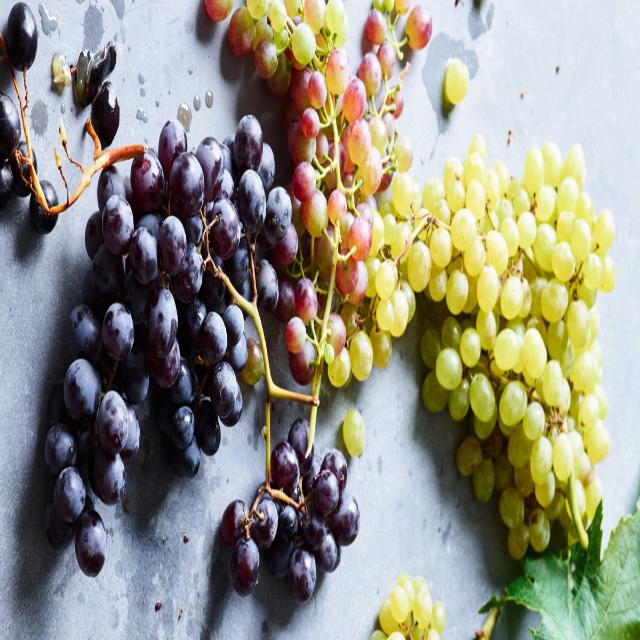grape: (39, 123, 304, 515), (379, 158, 640, 555), (231, 1, 376, 406), (226, 425, 362, 607), (371, 567, 446, 640)
